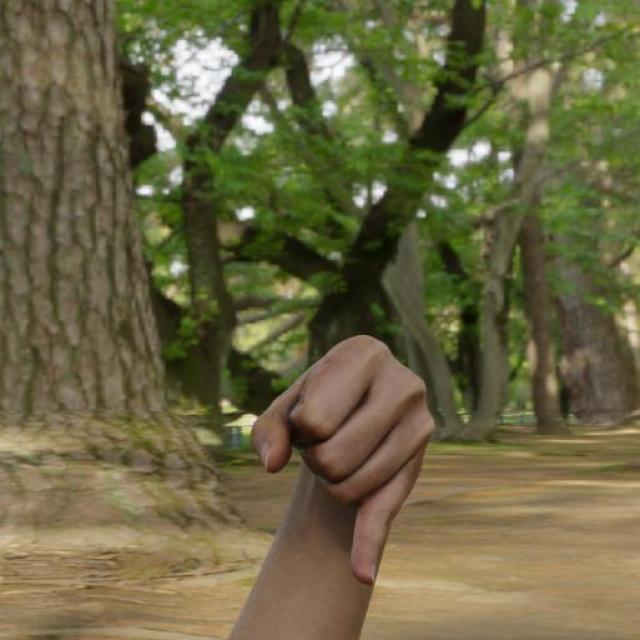J: (246, 328, 441, 588)
